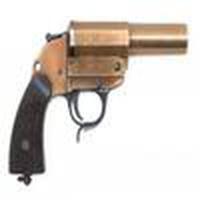gun: (8, 15, 192, 184)
